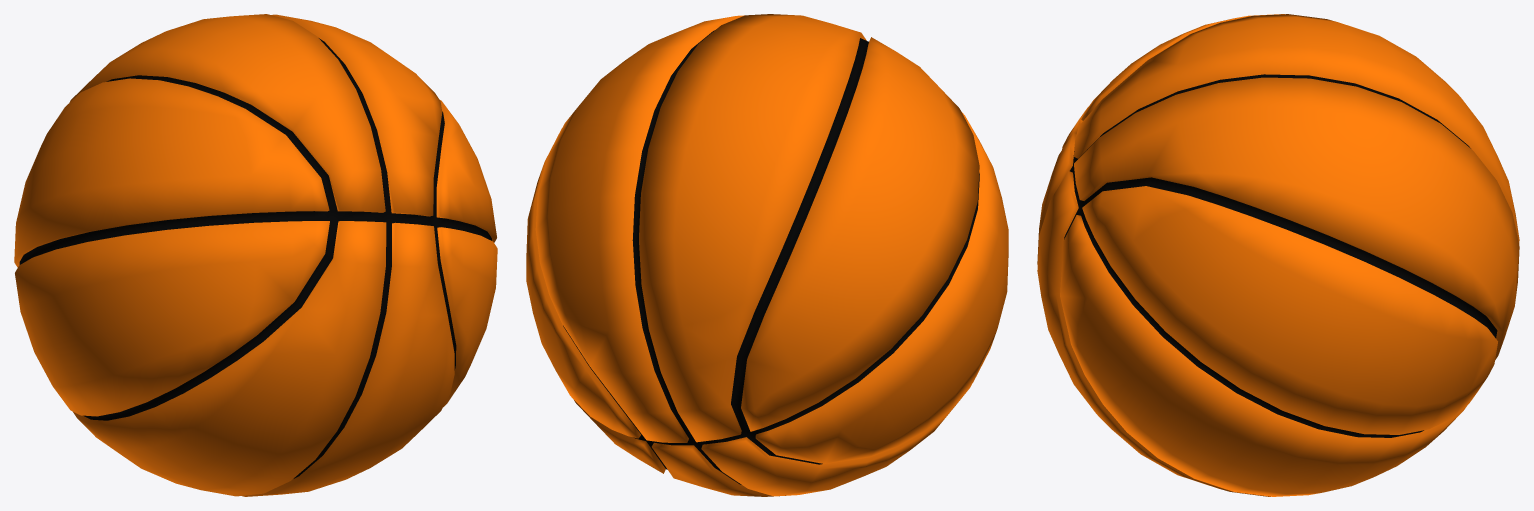
3 views of the same model, side by side, from view 1: azimuth 30°, elevation 25°; view 2: azimuth 150°, elevation 25°; view 3: azimuth 270°, elevation 25° (orthographic).
Visible parts, largest first — view 1: Basketball_Ball_0; view 2: Basketball_Ball_0; view 3: Basketball_Ball_0.
Boxes of the visible parts, x1,y1,x2,y2 form: Basketball_Ball_0: (14,14,497,496); Basketball_Ball_0: (526,14,1008,496); Basketball_Ball_0: (1037,14,1519,496).
Size of the model in its own units: 0.3333 by 0.3321 by 0.3327.
